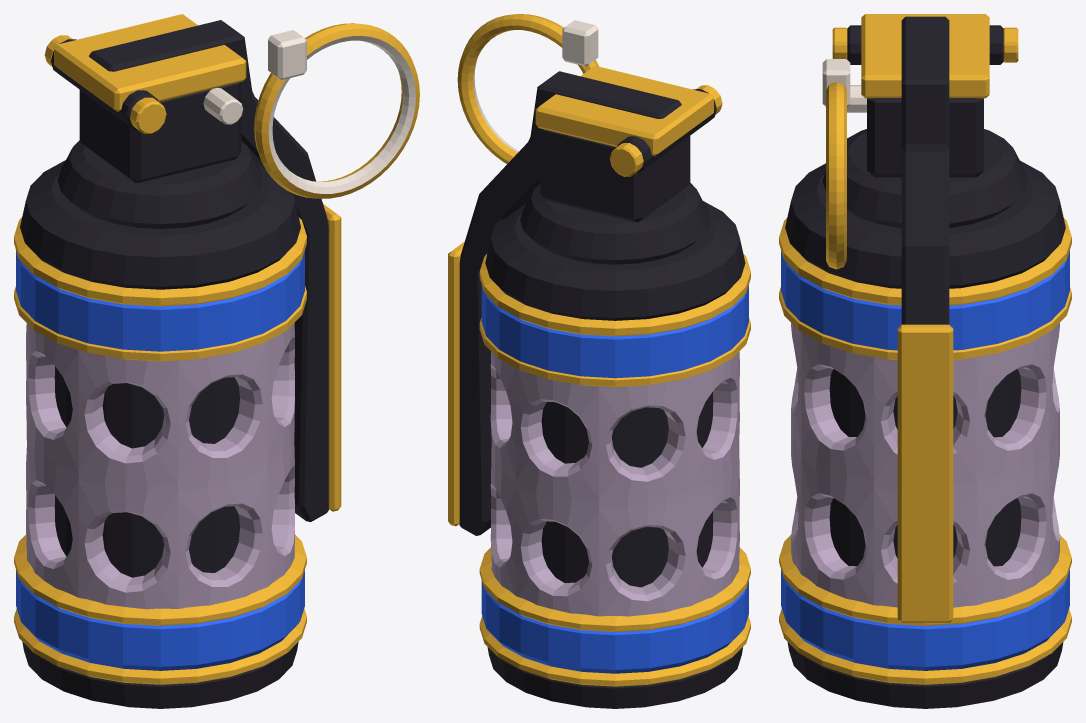
The picture shows the model from 3 angles, left to right: view 1: azimuth 30°, elevation 25°; view 2: azimuth 150°, elevation 25°; view 3: azimuth 270°, elevation 25°; orthographic projection. The views are drawn at different scales.
Parts seen in each view (by area): view 1: static_pal_uiDark, body, static_pal_schoolBusYellow, static_pal_policeBlue, safetyLever, pullRing, static_pal_picketWhite; view 2: static_pal_uiDark, body, static_pal_schoolBusYellow, static_pal_policeBlue, safetyLever, pullRing, static_pal_picketWhite; view 3: body, static_pal_uiDark, safetyLever, static_pal_schoolBusYellow, static_pal_policeBlue, pullRing, static_pal_picketWhite.
Boxes of the visible parts, box(x1,y1,x2,y2) form: static_pal_uiDark: box(20, 39, 300, 708); body: box(26, 323, 294, 609); static_pal_schoolBusYellow: box(14, 14, 306, 684); static_pal_policeBlue: box(16, 250, 304, 670); safetyLever: box(89, 20, 341, 521); pullRing: box(254, 23, 419, 198); static_pal_picketWhite: box(203, 30, 306, 124); static_pal_uiDark: box(485, 89, 745, 708); body: box(490, 351, 739, 616); static_pal_schoolBusYellow: box(479, 65, 750, 686); static_pal_policeBlue: box(481, 285, 748, 673); safetyLever: box(448, 71, 681, 535); pullRing: box(457, 14, 599, 163); static_pal_picketWhite: box(562, 20, 598, 66); body: box(791, 323, 1059, 607); static_pal_uiDark: box(785, 25, 1065, 708); safetyLever: box(897, 16, 953, 622); static_pal_schoolBusYellow: box(779, 14, 1071, 684); static_pal_policeBlue: box(781, 250, 1069, 670); pullRing: box(826, 82, 846, 269); static_pal_picketWhite: box(822, 59, 866, 112).
Bounding box in the file's own units: 0.1985 × 0.3535 × 0.148.
